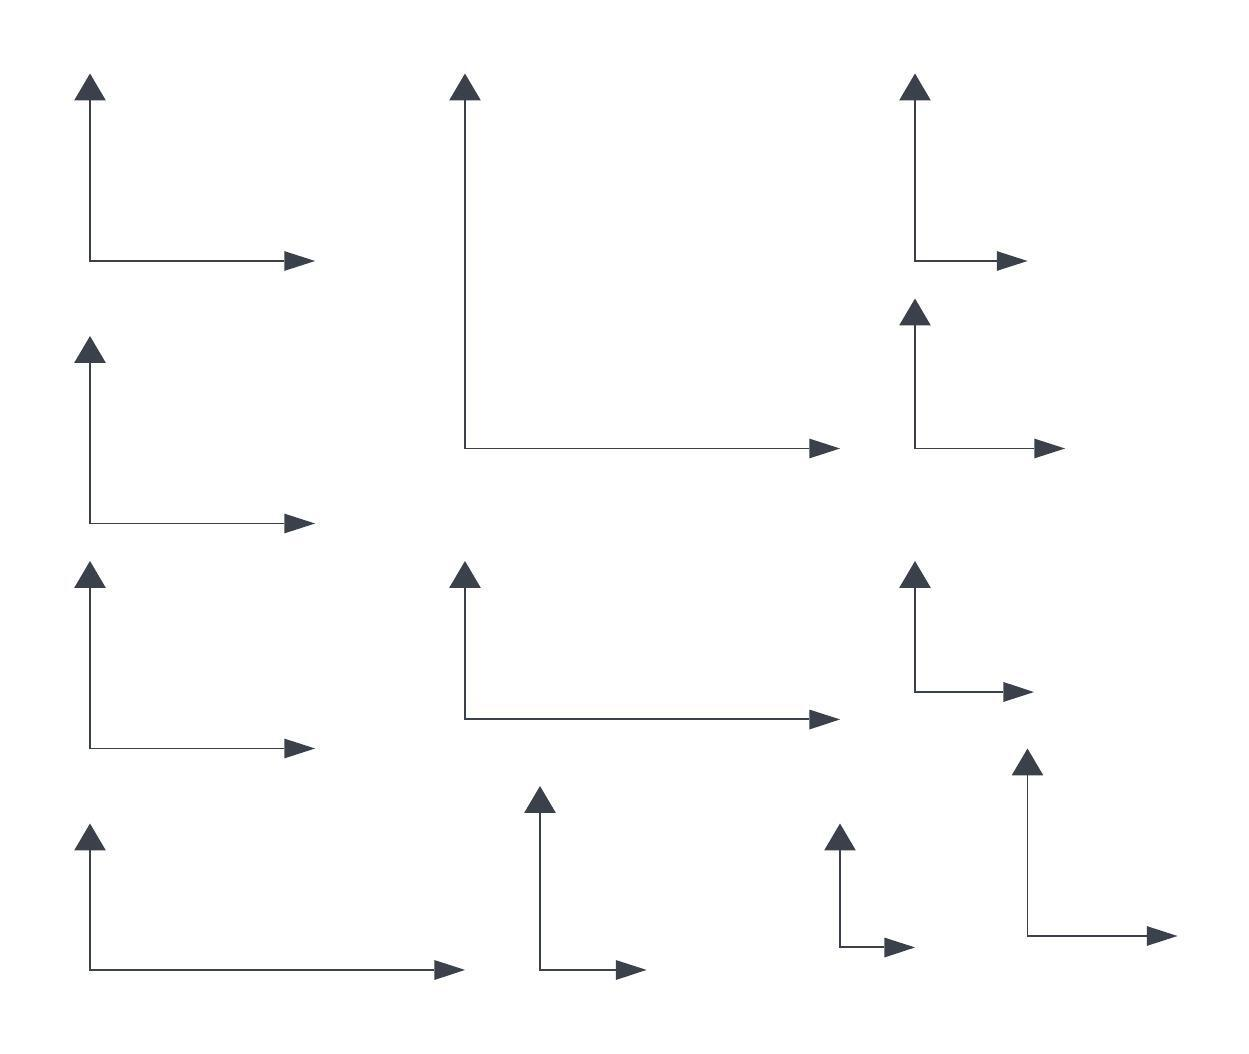bi_horizontal: (443, 65, 852, 476), (445, 553, 846, 748), (76, 821, 467, 991), (63, 331, 329, 543), (71, 67, 318, 287), (72, 555, 321, 767), (1013, 748, 1188, 955), (898, 293, 1073, 476), (518, 776, 655, 996), (899, 67, 1030, 278), (900, 554, 1040, 709), (823, 821, 918, 961)
